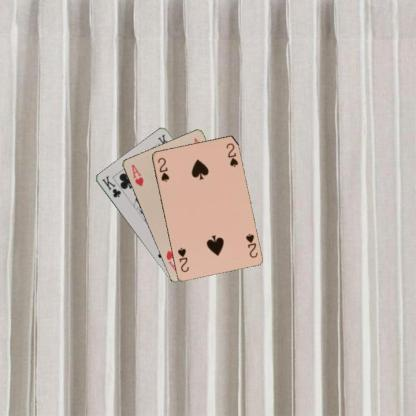2s: (243, 230, 259, 259), (155, 155, 170, 182)
Ah: (129, 162, 144, 188)
Kc: (99, 173, 122, 199)
